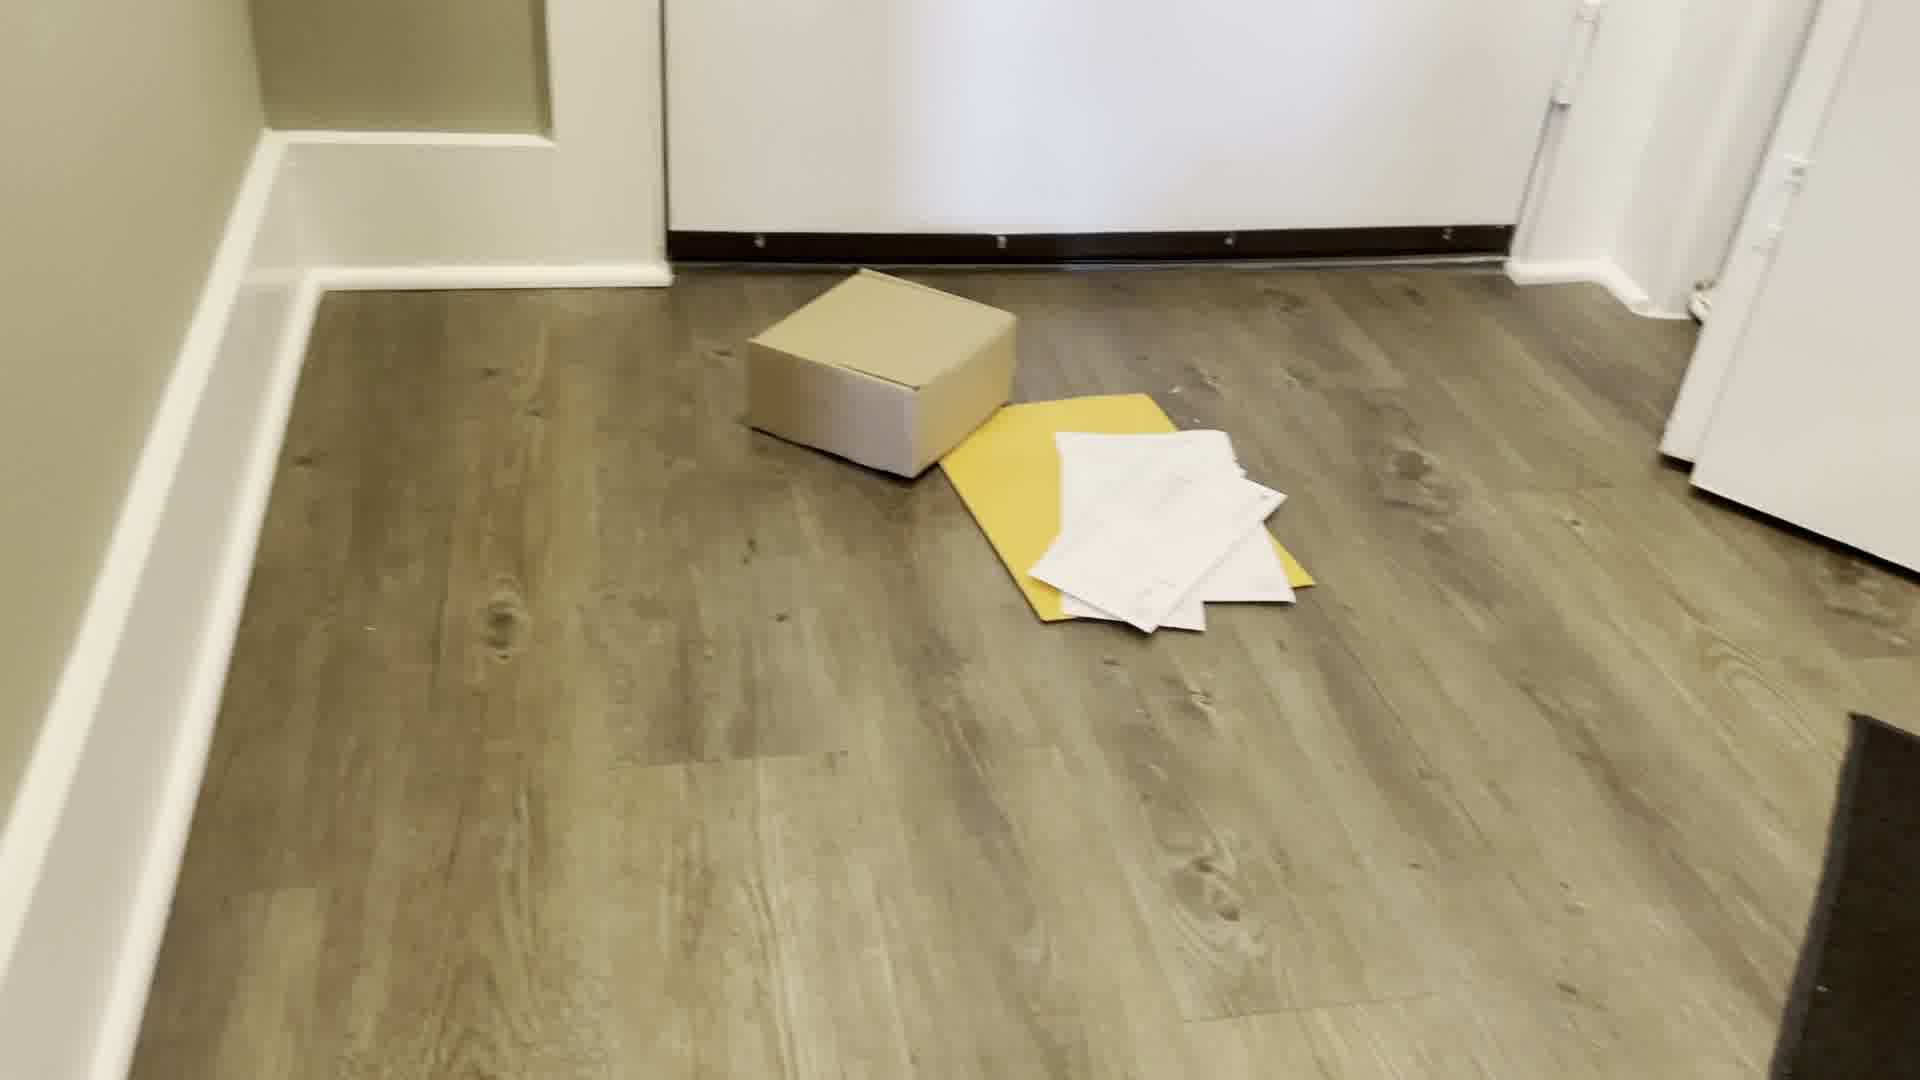box: (727, 256, 1036, 485)
envelope: (926, 375, 1324, 644)
